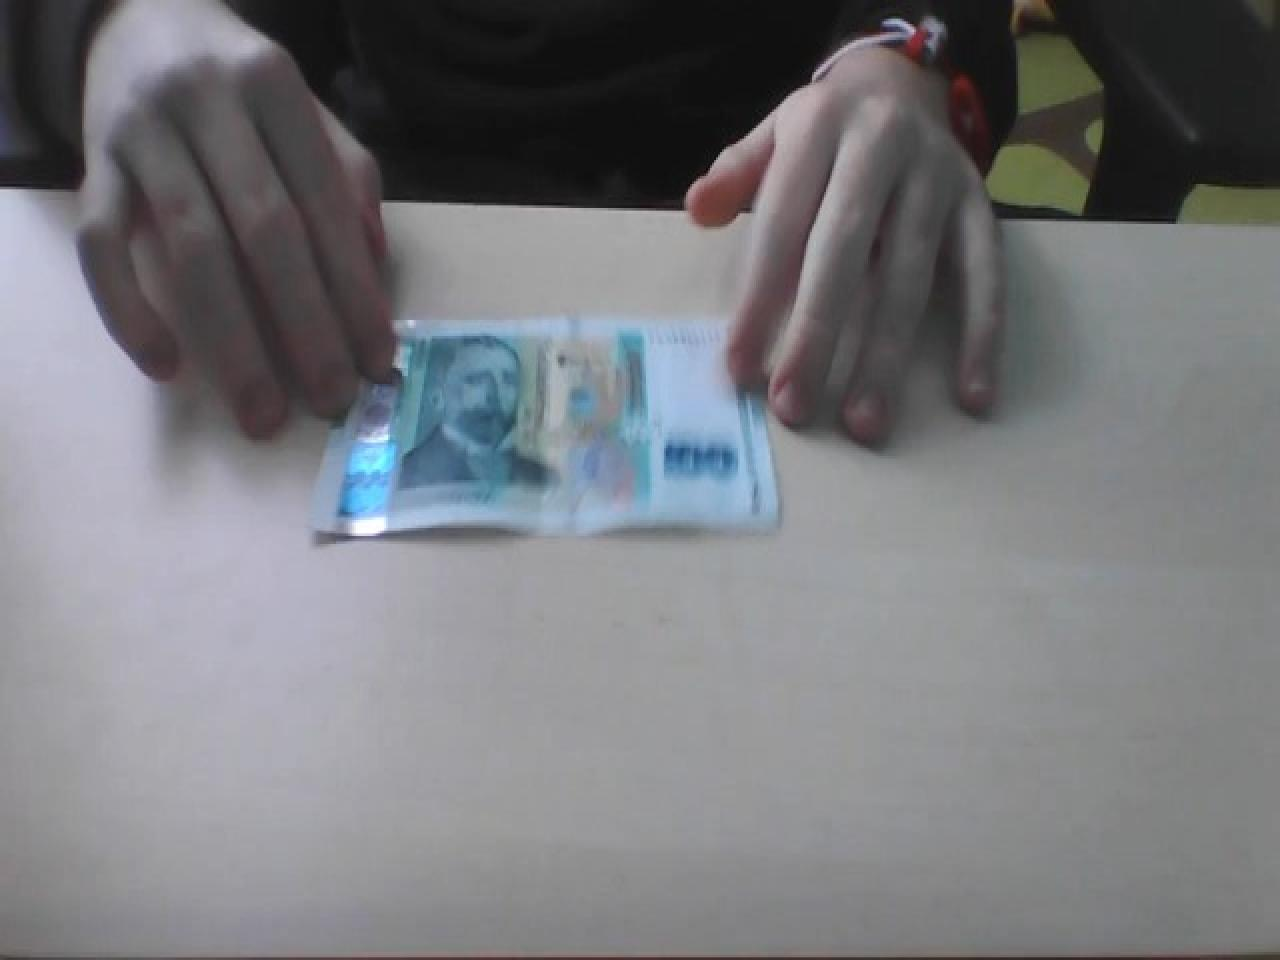100leva: (308, 312, 780, 542)
